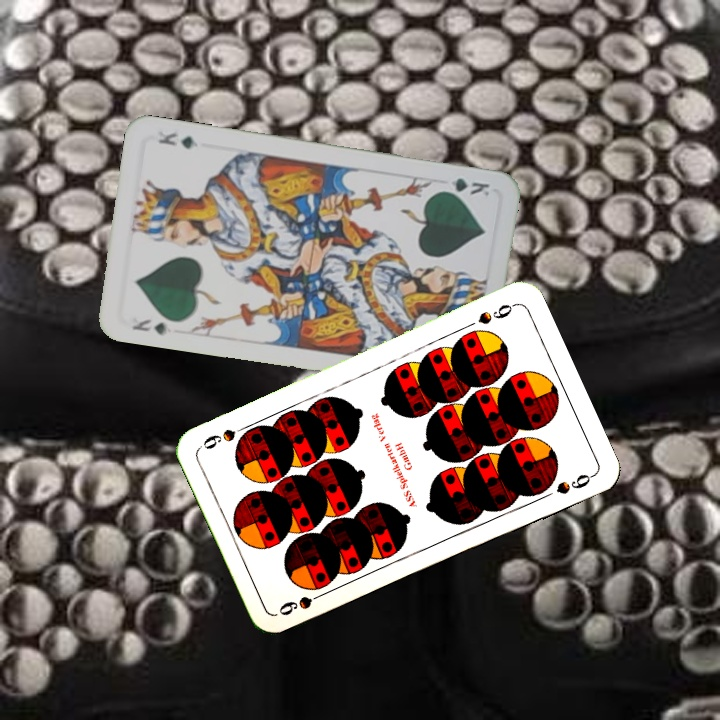GK: (435, 174, 492, 199), (128, 315, 169, 338)
S9: (274, 587, 331, 619), (474, 299, 519, 328)
